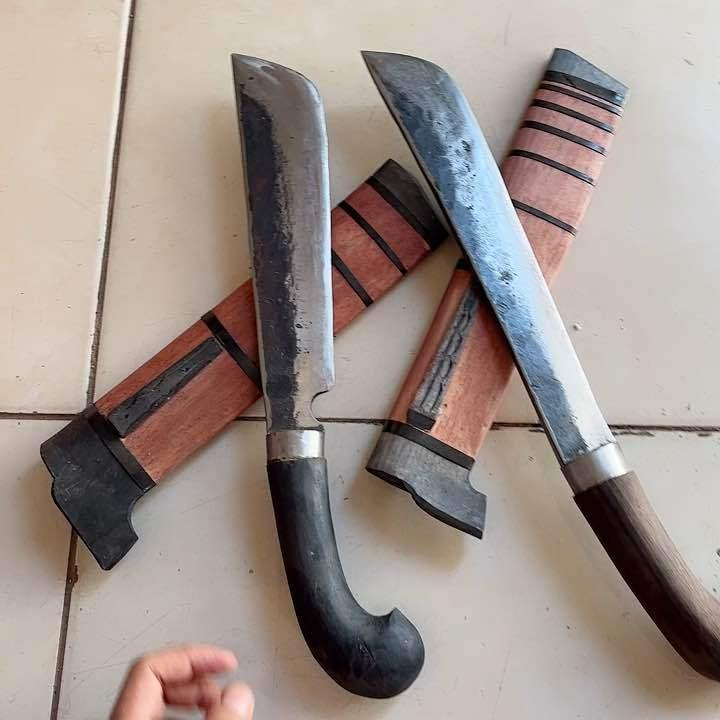facao: (362, 51, 719, 681), (234, 54, 423, 697)
